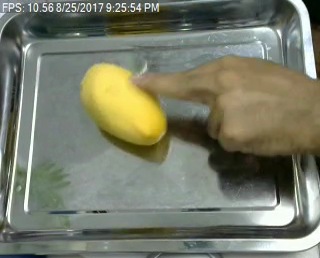Mango: (79, 60, 172, 145)
